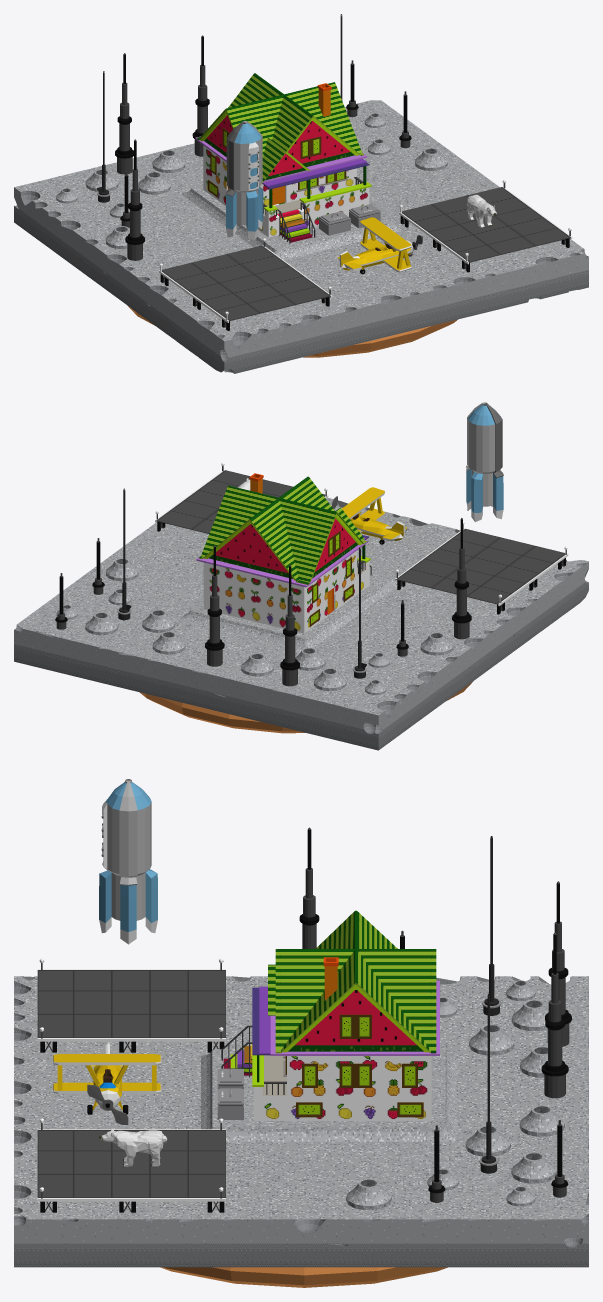
3 renders of one model, top to bottom at view 1: azimuth 30°, elevation 25°; view 2: azimuth 150°, elevation 25°; view 3: azimuth 270°, elevation 25°, orthographic. The views are drawn at different scales.
Visible parts, largest first — view 1: Cube.027, Cube.1063, Cube.025, Cube.026, OBJRANDOM_ROCKETSHIP, Cube.028, VEHICLES_AIRPLANE, UNDERGROUND_PIZZA, Cylinder.021, Cylinder.020, Cylinder.017, ANIMAL_OSO_POLAR (+6 smaller); view 2: Cube.027, Cube.1063, Cube.025, OBJRANDOM_ROCKETSHIP, Cube.028, Cube.026, VEHICLES_AIRPLANE, UNDERGROUND_PIZZA, Cylinder.020, Cylinder.017, Cylinder.021, Cylinder.025 (+9 smaller); view 3: Cube.027, Cube.1063, Cube.025, Cube.026, Cube.028, OBJRANDOM_ROCKETSHIP, VEHICLES_AIRPLANE, UNDERGROUND_PIZZA, Cylinder.017, ANIMAL_OSO_POLAR, Cylinder.020, Cylinder.021 (+9 smaller).
Part boxes in pixels (x1,y1,x2,y2): Cube.027: [14, 100, 588, 373]; Cube.1063: [195, 73, 371, 243]; Cube.025: [159, 238, 332, 330]; Cube.026: [399, 179, 572, 272]; OBJRANDOM_ROCKETSHIP: [226, 121, 263, 240]; Cube.028: [182, 185, 402, 259]; VEHICLES_AIRPLANE: [337, 217, 422, 274]; UNDERGROUND_PIZZA: [127, 305, 457, 357]; Cylinder.021: [125, 139, 144, 260]; Cylinder.020: [115, 53, 133, 174]; Cylinder.017: [192, 35, 209, 156]; ANIMAL_OSO_POLAR: [467, 194, 496, 228]; Cube.027: [14, 498, 588, 750]; Cube.1063: [196, 473, 371, 633]; Cube.025: [395, 521, 568, 614]; OBJRANDOM_ROCKETSHIP: [466, 402, 503, 522]; Cube.028: [180, 571, 397, 649]; Cube.026: [155, 463, 328, 533]; VEHICLES_AIRPLANE: [331, 487, 407, 544]; UNDERGROUND_PIZZA: [140, 681, 473, 733]; Cylinder.020: [280, 565, 299, 686]; Cylinder.017: [205, 545, 224, 666]; Cylinder.021: [452, 518, 471, 639]; Cylinder.025: [420, 632, 453, 655]; Cube.027: [14, 976, 588, 1267]; Cube.1063: [221, 910, 439, 1120]; Cube.025: [37, 958, 225, 1052]; Cube.026: [37, 1118, 225, 1212]; Cube.028: [201, 1049, 456, 1141]; OBJRANDOM_ROCKETSHIP: [99, 779, 157, 944]; VEHICLES_AIRPLANE: [53, 1042, 161, 1124]; UNDERGROUND_PIZZA: [160, 1267, 447, 1287]; Cylinder.017: [541, 932, 568, 1098]; ANIMAL_OSO_POLAR: [99, 1128, 167, 1166]; Cylinder.020: [545, 881, 571, 1046]; Cylinder.021: [299, 827, 319, 948].
Size of the model in its own units: 4000 by 2479 by 4000.
43 materials, 6 textured.
